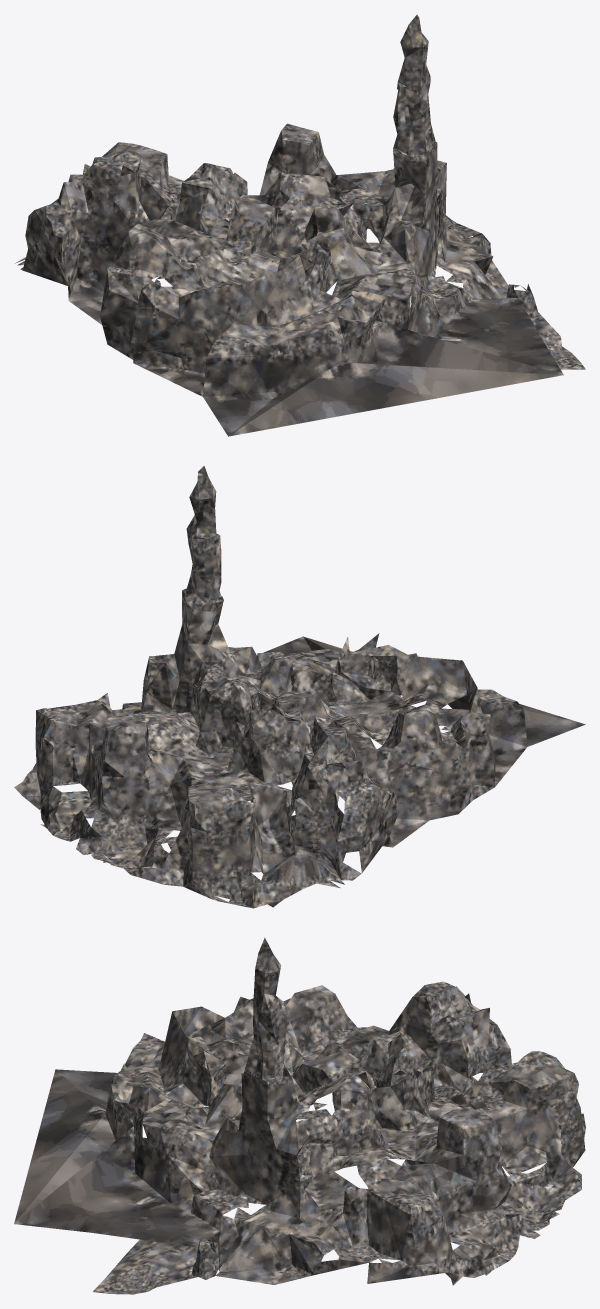
File: jaffa.obj
3 renders of one model, top to bottom at view 1: azimuth 30°, elevation 25°; view 2: azimuth 150°, elevation 25°; view 3: azimuth 270°, elevation 25°, orthographic. The views are drawn at different scales.
Size of the model in its own units: 1.34 by 1 by 1.65.
1 material, 1 textured.
